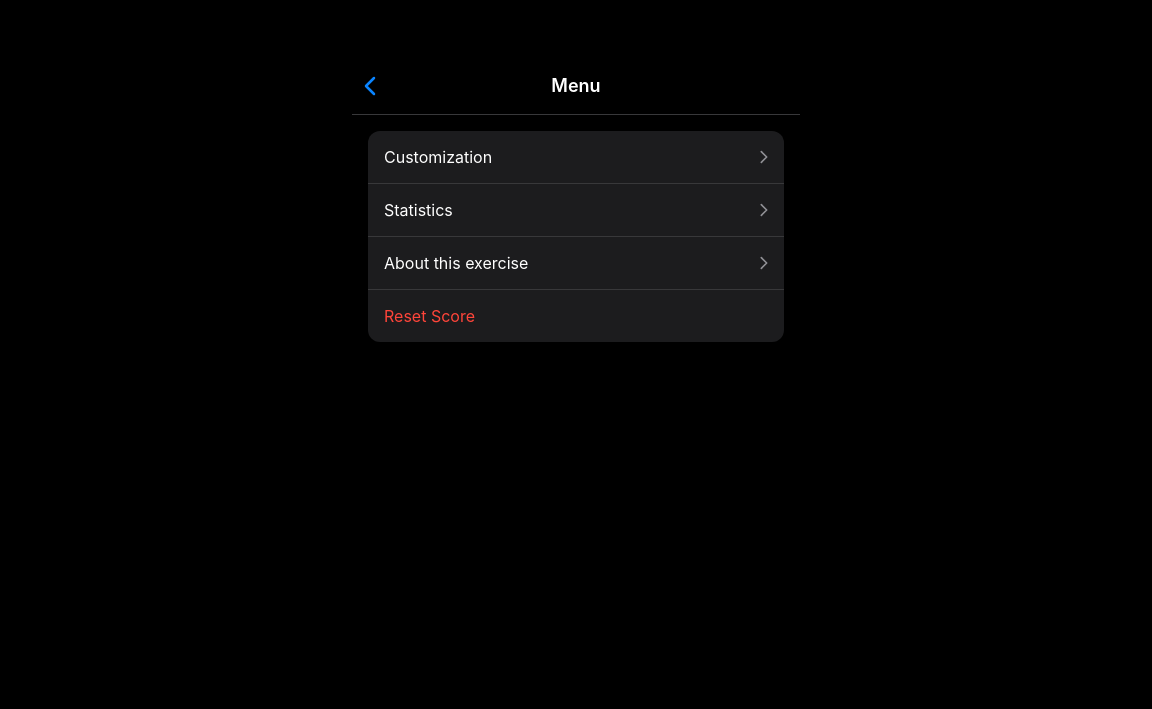
it: intervals screen › offers no Unison at all, and leaves the compounds off
What coordinates should you click on to do the following:
click the button "Customization"
I would click on:
 (438, 157)
Its box is [368,131,784,183].
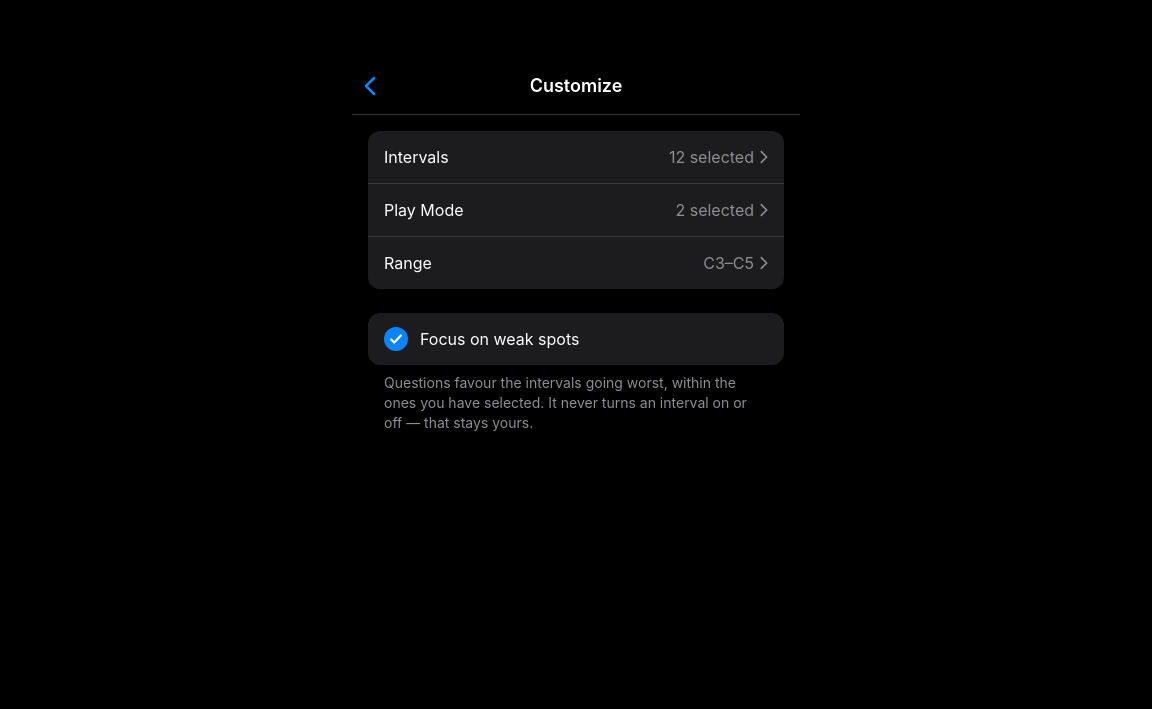
What coordinates should you click on to do the following:
click the button "Intervals 12 selected"
I would click on:
 (416, 157)
Its box is [368,131,784,183].
(page scrolled)
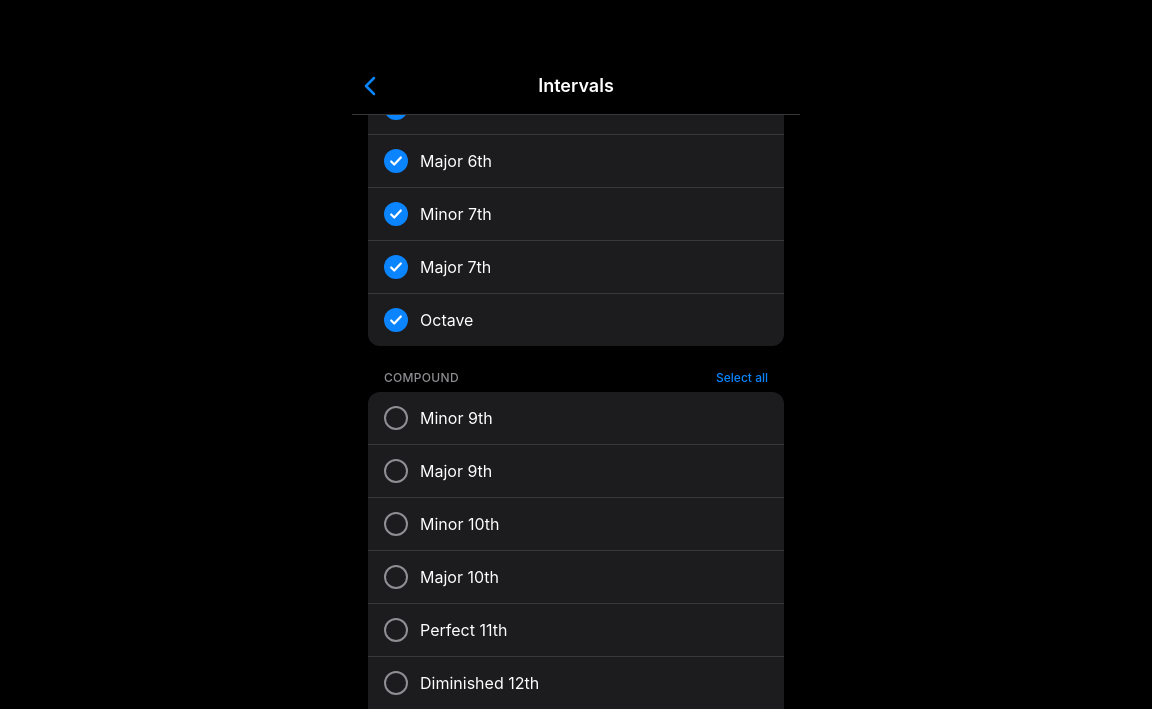
Now the checkbox labelled "Octave" is checked, box [368,293,784,346]
Now the checkbox labelled "Minor 9th" is not checked, box [368,392,784,444]
